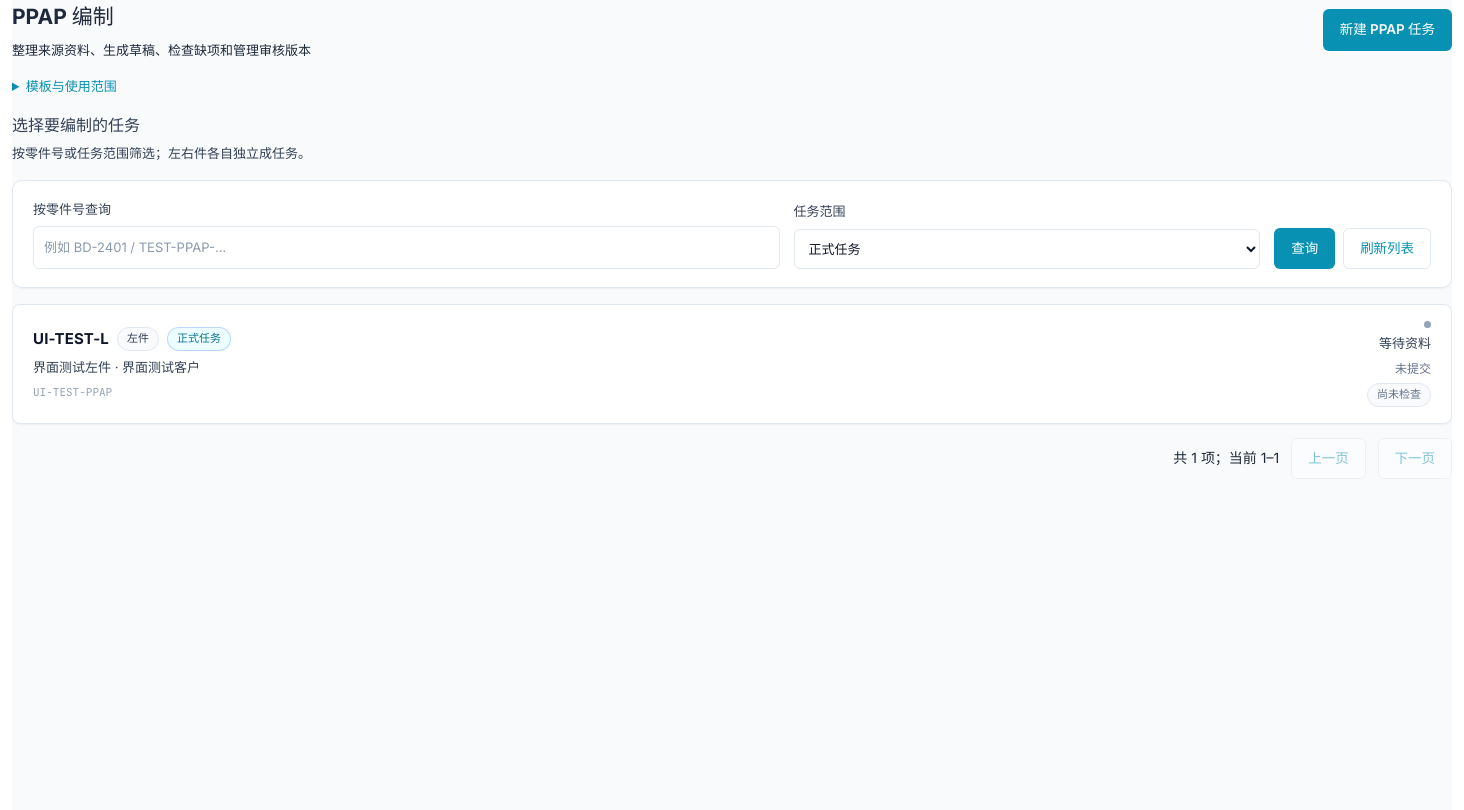
Test: PPAP 工作台权限、取证和业务流程 › EMPTY 与 ERROR 分开展示，截断范围不能作为完整取证
The width and height of the screenshot is (1464, 810).
Click the button "UI-TEST-L 左件 正式任务 界面测试左件 · 界面测试客户 UI-TEST-PPAP 等待资料 未提交 尚未检查" at x=732, y=364, box [12, 304, 1452, 424]
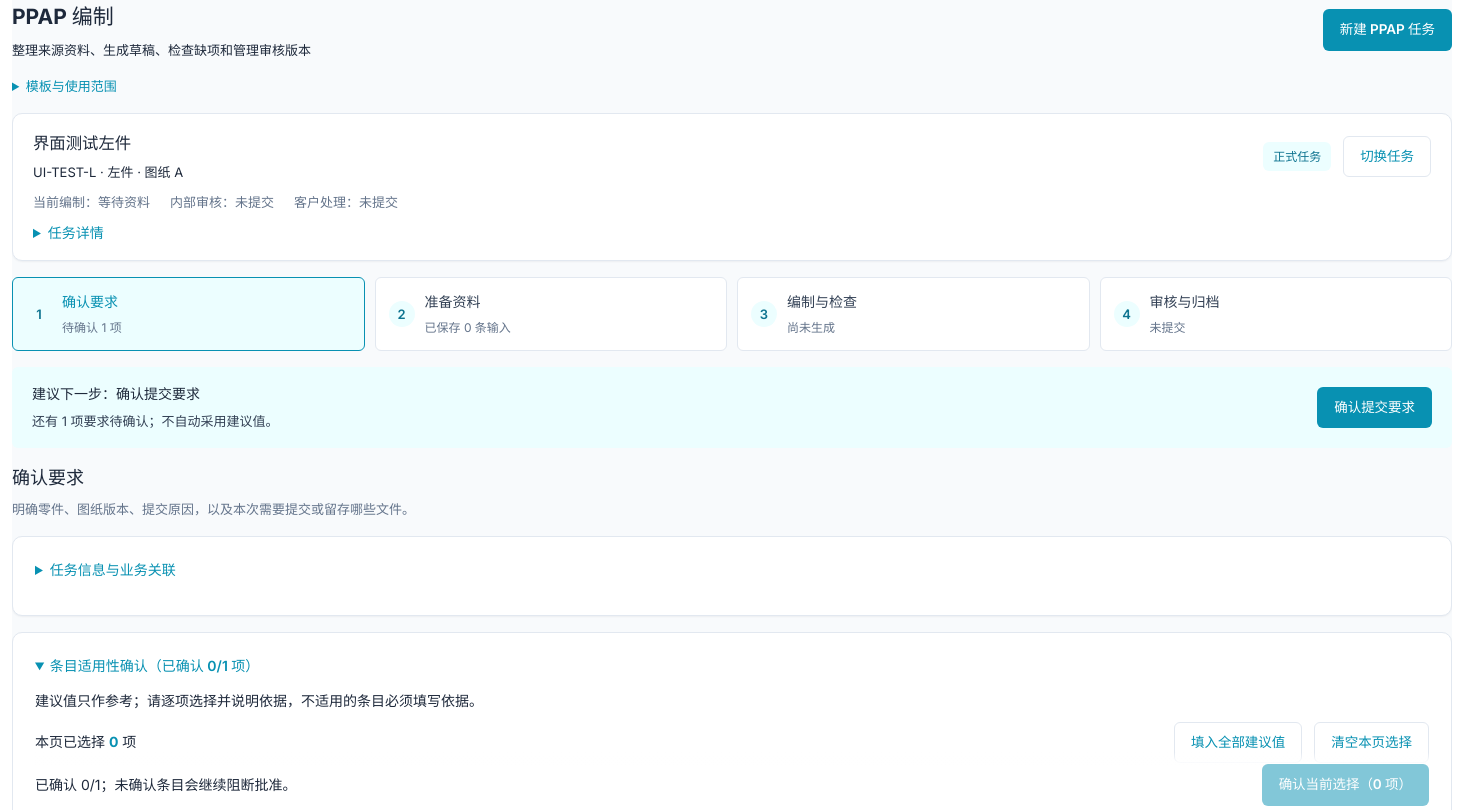
Click the button "2 准备资料 已保存 0 条输入" at x=452, y=302, box [374, 277, 727, 351]
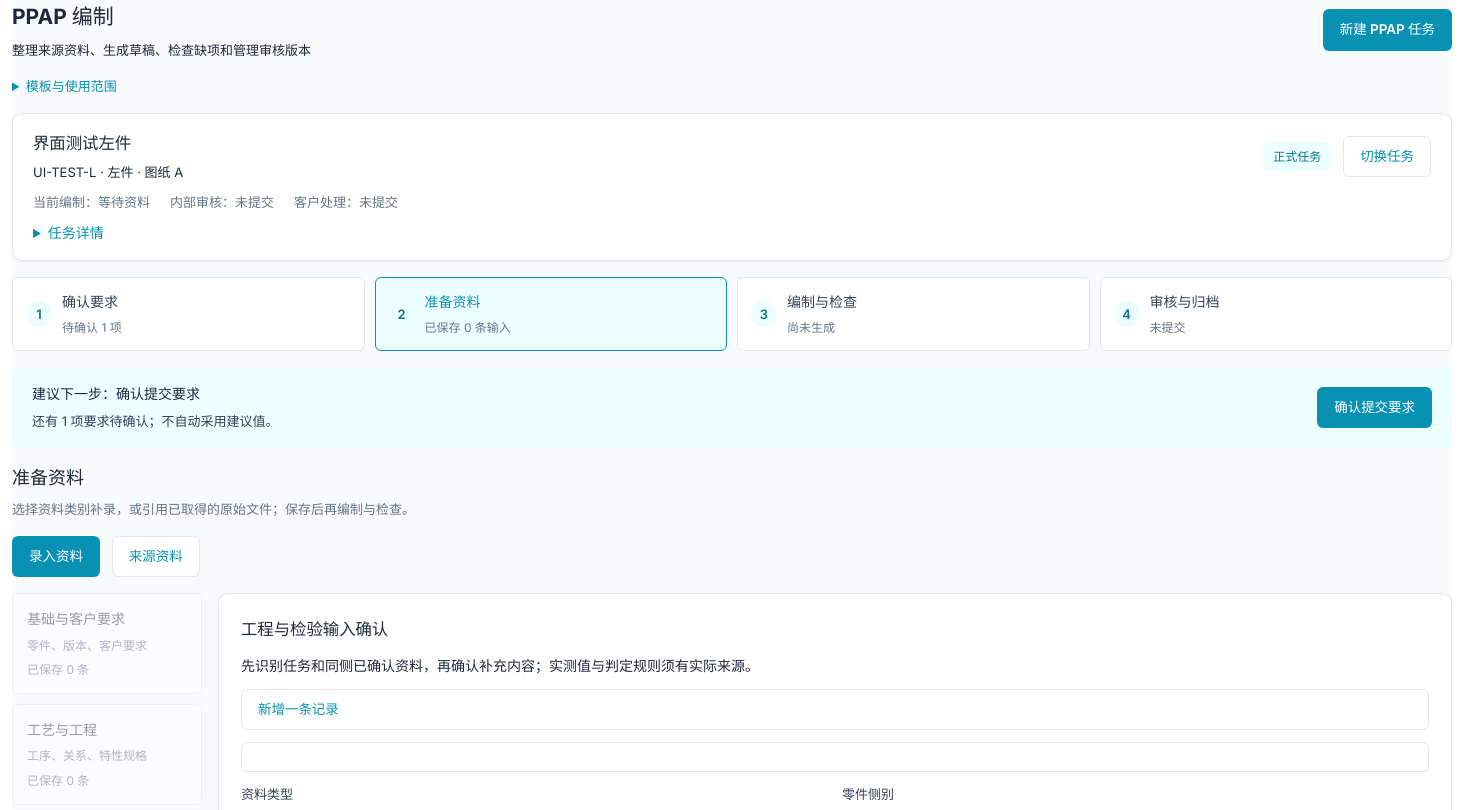
Click the button "来源资料" at x=156, y=556, box [112, 536, 200, 577]
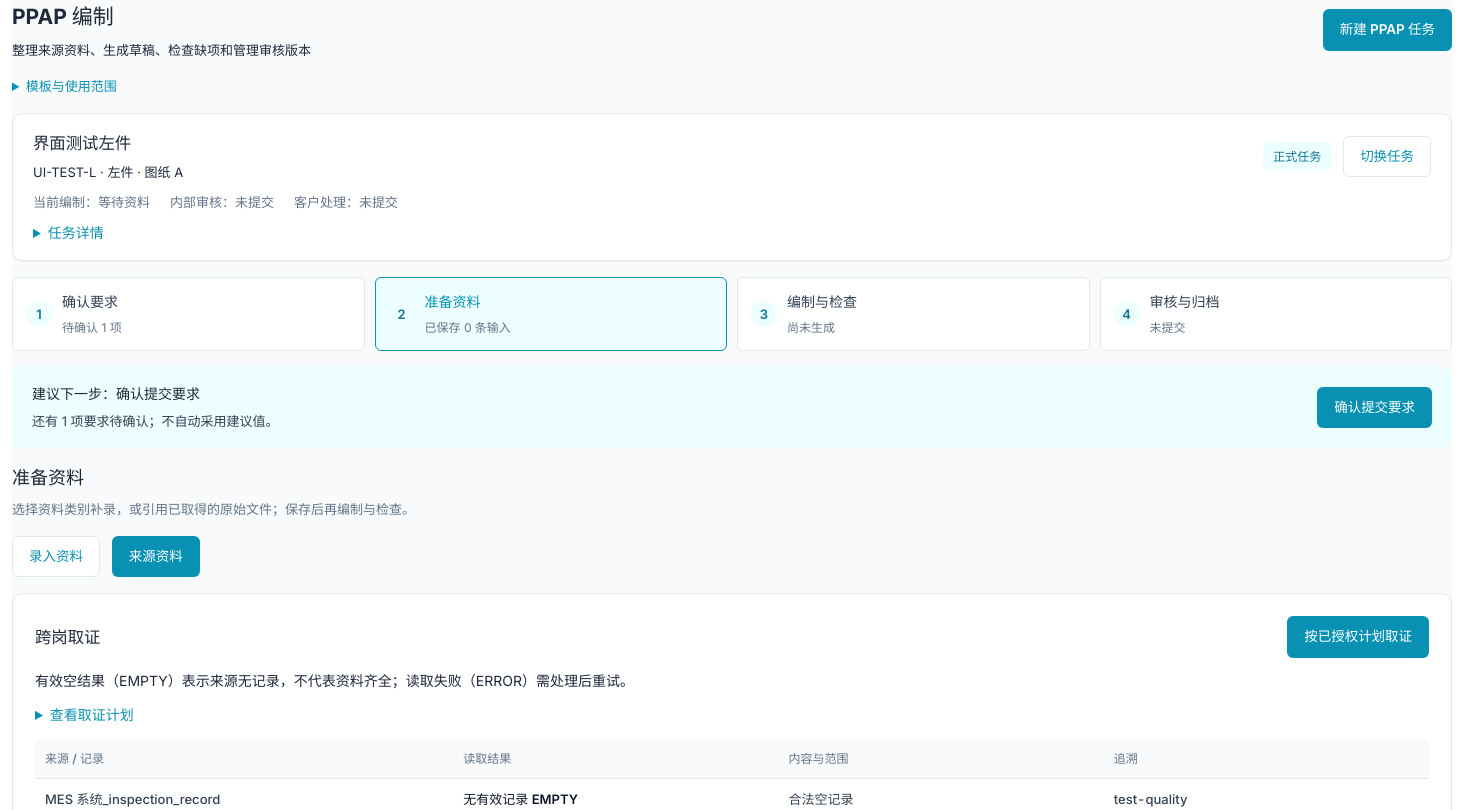
Expected: the text "无有效记录 EMPTY" is shown, [463, 791, 578, 807]
